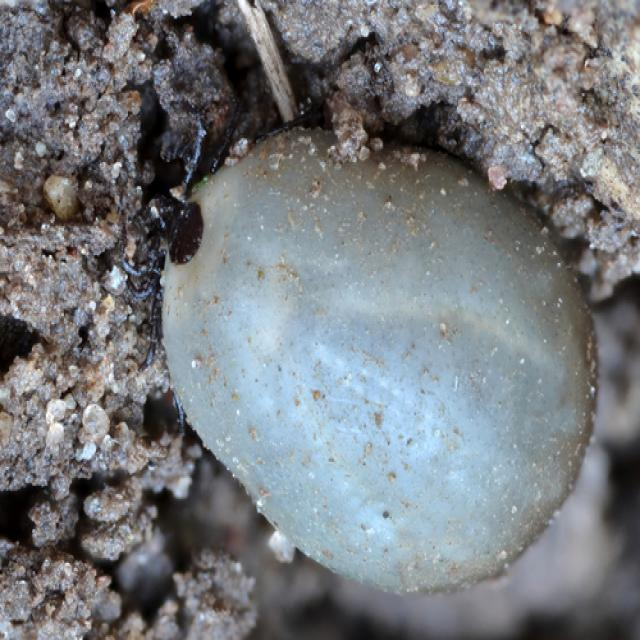Ixodes Ricinus-F-Fed: (122, 117, 598, 595)
